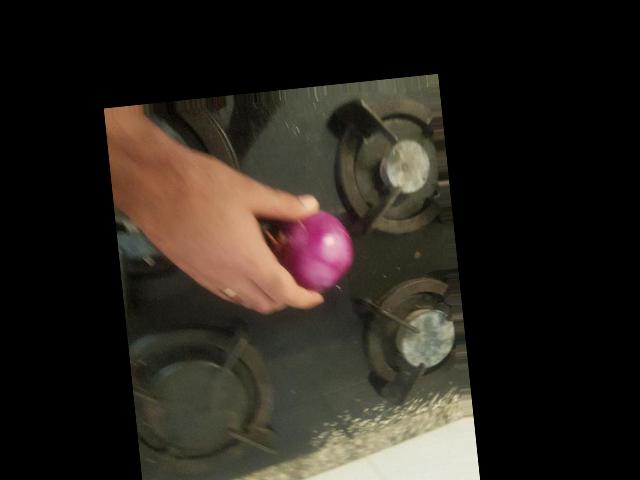onion: (264, 204, 356, 297)
